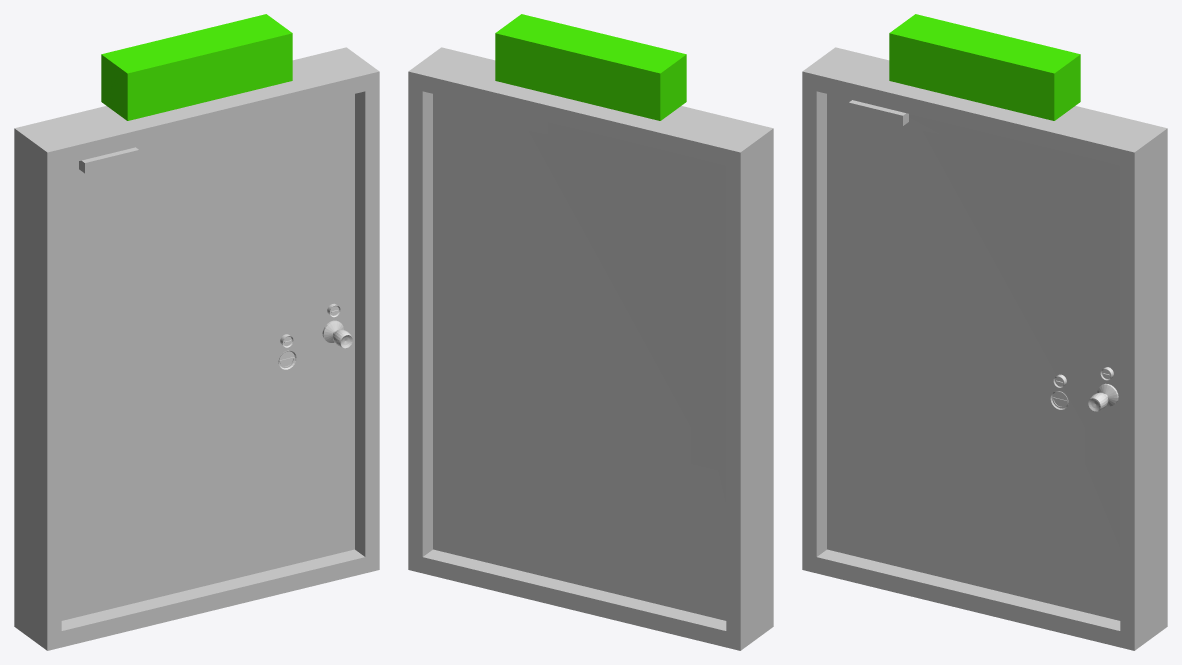
Rendered from emergency.fbx.
3 views of the same model, side by side, from view 1: azimuth 30°, elevation 25°; view 2: azimuth 150°, elevation 25°; view 3: azimuth 330°, elevation 25° (orthographic).
Visible parts, largest first — view 1: polySurface1, polySurface4, pCube3, pCube2, pCylinder5; view 2: polySurface1, polySurface4, pCube3; view 3: polySurface1, polySurface4, pCube3, pCube2, pCylinder5.
Boxes of the visible parts, left/top/right/bottom form: polySurface1: left=14, top=47, right=379, bottom=650; polySurface4: left=96, top=118, right=309, bottom=588; pCube3: left=101, top=14, right=292, bottom=120; pCube2: left=79, top=147, right=138, bottom=173; pCylinder5: left=322, top=320, right=352, bottom=348; polySurface1: left=408, top=47, right=773, bottom=650; polySurface4: left=478, top=118, right=691, bottom=588; pCube3: left=495, top=14, right=686, bottom=120; polySurface1: left=802, top=47, right=1167, bottom=650; polySurface4: left=872, top=119, right=1085, bottom=588; pCube3: left=889, top=14, right=1080, bottom=120; pCube2: left=848, top=100, right=908, bottom=125; pCylinder5: left=1088, top=383, right=1118, bottom=411.
Size of the model in its own units: 164 by 262 by 31.4.
